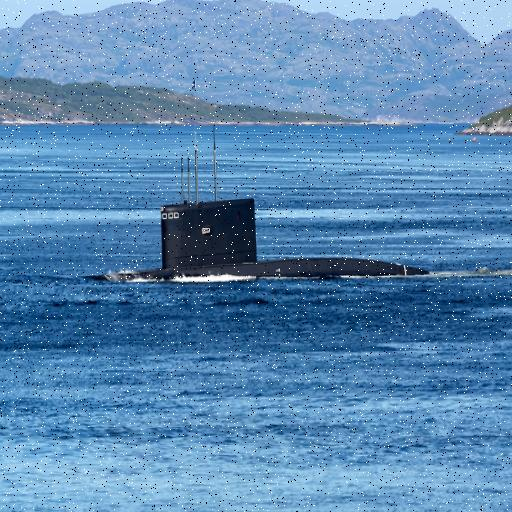submarine: (85, 121, 443, 283)
